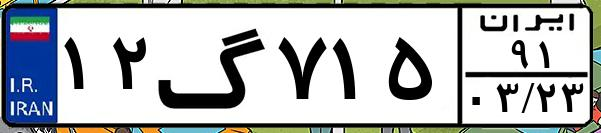0: (470, 70, 495, 125)
1: (330, 28, 385, 110), (57, 26, 110, 100), (537, 27, 568, 80)
2: (110, 28, 156, 98), (535, 70, 560, 125)
3: (560, 70, 590, 125), (495, 70, 520, 125)
5: (385, 28, 445, 110)
7: (270, 28, 330, 110)
9: (508, 27, 537, 80)
گ: (156, 12, 270, 120)
